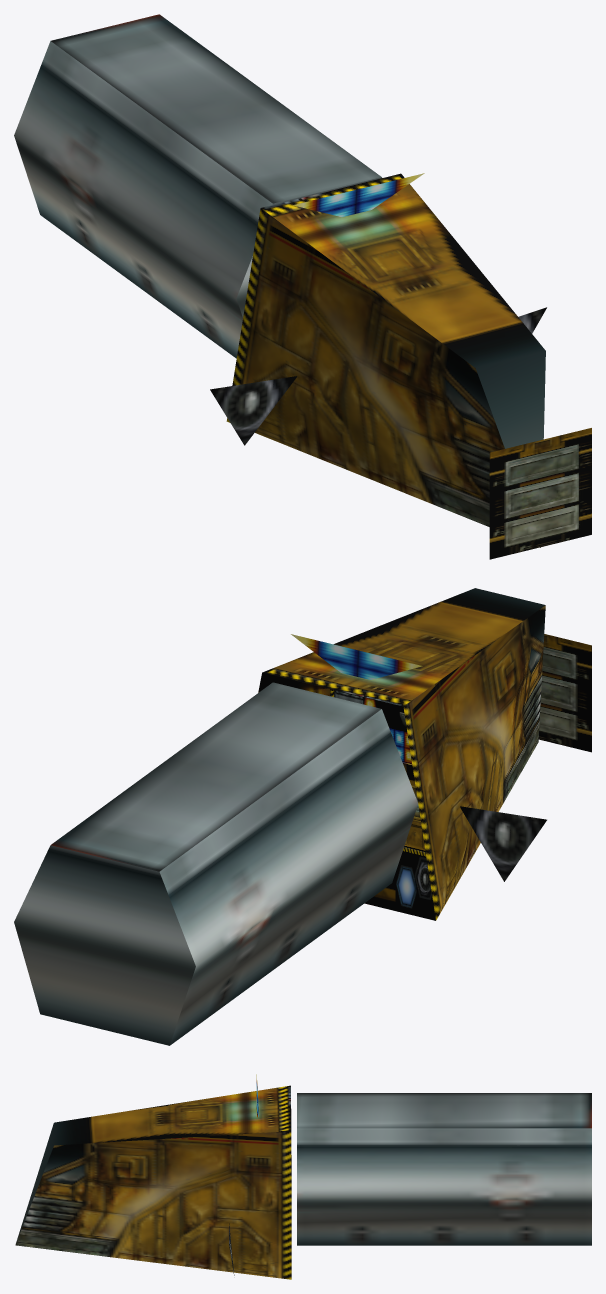
The model's file is utl19-low.obj.
The picture shows the model from 3 angles, top to bottom: view 1: azimuth 30°, elevation 25°; view 2: azimuth 150°, elevation 25°; view 3: azimuth 270°, elevation 25°; orthographic projection. The views are drawn at different scales.
Visible parts, largest first — view 1: frm-tetra1, frm-cube2, frm-cube1, frm-bmerge8, frm-bmerge9; view 2: frm-cube2, frm-tetra1, frm-cube1, frm-bmerge8, frm-bmerge9; view 3: frm-cube2, frm-tetra1.
Boxes of the visible parts, x1,y1,x2,y2 form: frm-tetra1: (226, 173, 545, 547); frm-cube2: (14, 14, 381, 358); frm-cube1: (489, 428, 591, 559); frm-bmerge8: (210, 376, 296, 445); frm-bmerge9: (293, 173, 424, 216); frm-cube2: (14, 682, 418, 1045); frm-tetra1: (258, 588, 545, 920); frm-cube1: (538, 634, 591, 752); frm-bmerge8: (460, 806, 546, 881); frm-bmerge9: (291, 634, 422, 679); frm-cube2: (297, 1093, 591, 1245); frm-tetra1: (15, 1085, 291, 1279).
Bounding box in the file's own units: 3.64 × 2.33 × 8.15.
